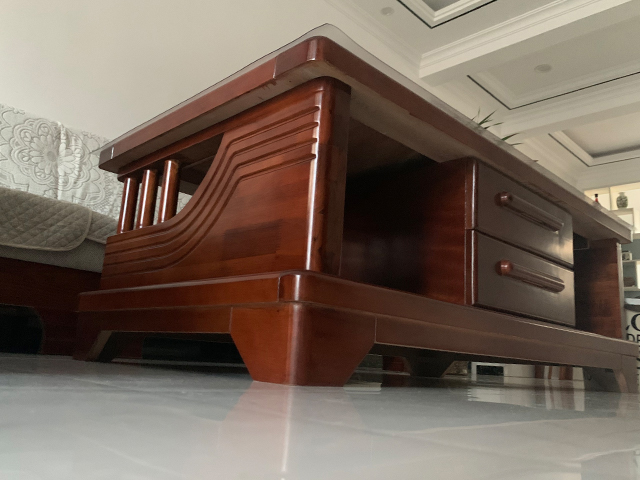table: (70, 21, 640, 395)
